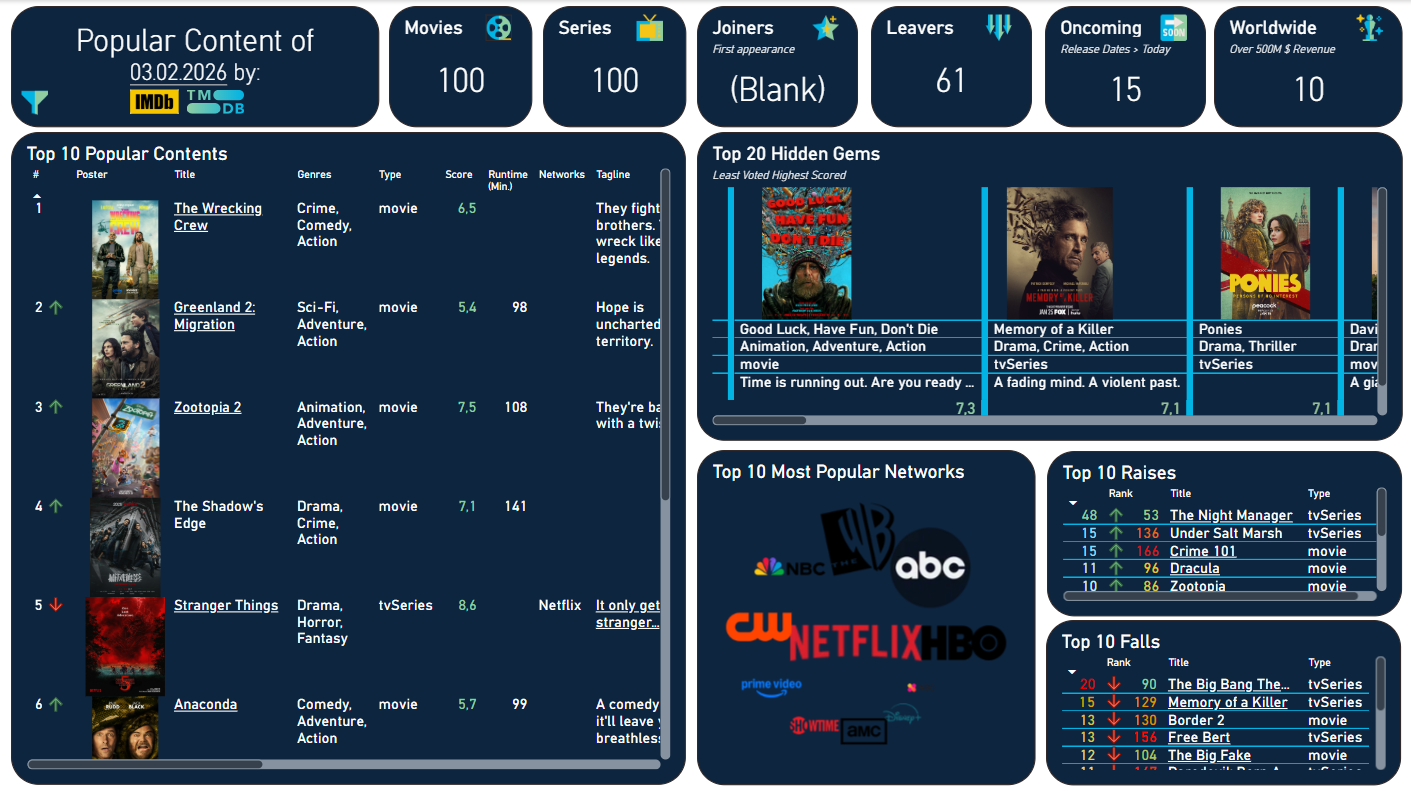

Layout of this report page (visuals, bound fields, positions):
{"tool":"powerbi","page":{"name":"Landing Page","canvas":[1280,720],"ordinal":0},"visuals":[{"type":"textbox","title":"Title","box":[10,5,305,130],"z":0,"group":"g6"},{"type":"card","title":"Binge Worthy","fields":{"Values":["dim_content.M_BingeWorthy"]},"box":[640,5,150,130],"z":0,"group":"g4"},{"type":"card","title":"Quick Watch","fields":{"Values":["dim_content.M_QuickWatch"]},"box":[800,5,152.6,127.7],"z":0,"group":"g3"},{"type":"card","title":"Oncoming","fields":{"Values":["dim_content.M_OnComing"]},"box":[960,5,150,130],"z":0,"group":"g2"},{"type":"card","title":"Global Reach","fields":{"Values":["dim_content.M_GlobalReach"]},"box":[1120,5,150,130],"z":0,"group":"g1"},{"type":"cardVisual","title":"Trending / Total","fields":{"Data":["dim_content.M_Content_Trending","dim_content.M_TotalContent"],"Rows":["dim_content.TypeDisplay"]},"box":[325,8,305,128],"z":0,"group":"g5"},{"type":"tableEx","title":"Top 10 Falls","fields":{"Values":["Key Measures.M_Display_RankChangeToday","Key Measures.M_Rank Today","dim_content.primary_title","dim_content.TypeDisplay","Key Measures.M_RankChangeToday"]},"box":[960,567,310,147],"z":0},{"type":"image","title":"iconBingeWatch","box":[750.6,5,32.8,32.6],"z":1000,"group":"g4"},{"type":"image","title":"iconQuickWatch","box":[909.6,5,33.3,37.1],"z":1000,"group":"g3"},{"type":"image","title":"iconOncomingNonSel","box":[1067.3,8.5,33.3,32],"z":1000,"group":"g2"},{"type":"image","title":"iconGlobalReachNonSel","box":[1233.5,8.5,33.3,32],"z":1000,"group":"g1"},{"type":"image","title":"iconTv","box":[584.2,77,30.5,32],"z":1000,"group":"g5"},{"type":"tableEx","title":"Top 10 Raises","fields":{"Values":["Key Measures.M_RankChangeToday","Key Measures.M_Display_RankChangeToday","Key Measures.M_Rank Today","dim_content.primary_title","dim_content.TypeDisplay"]},"box":[960,415,310,147],"z":1000},{"type":"image","title":"iconMovie","box":[584.2,53,30.5,32],"z":2000,"group":"g5"},{"type":"image","title":"iconFilterNonSel","box":[14.6,80,31.1,34],"z":2000,"group":"g6"},{"type":"ImageGrid_FC5183B9_926C_45E0_B5F7_0CE9EAF1DA9B","title":"Top 10 Most Popular Networks","fields":{"ImageURLHQ":["dim_network.Poster"],"Value":["Sum(fact_popularity.Popularity)"]},"box":[640,415,310,300],"z":2000},{"type":"image","title":"logoTMDB","box":[149.3,80,60.1,32],"z":3000,"group":"g6"},{"type":"pivotTable","title":"Top 20 Hidden Gems","fields":{"Rows":["dim_content.Title"],"Values":["Min(dim_content.Poster)","Min(dim_content.TypeDisplay)","Min(dim_content.Genres)","Sum(dim_content.Score)","Min(dim_content.Runtime_HM_col)","Min(dim_content.Tagline)"]},"box":[640,140,630,270],"z":3000},{"type":"image","title":"logoIMDB","box":[98.3,80,60.1,32],"z":4000,"group":"g6"},{"type":"tableEx","title":"Top 10 Most Popular Contents","fields":{"Values":["fact_popularity.Rank Today","Key Measures.M_Display_RankChangeToday","dim_content.content_poster","dim_content.primary_title","dim_content.GenreList","dim_content.TypeDisplay","dim_content.Score","dim_content.NetworksDisplay","dim_content.TrailerDisplay","dim_content.Release Date.Variation.Date Hierarchy.Year","dim_content.Tagline","dim_content.Language"]},"box":[10,140,620,575],"z":4000},{"type":"group","id":"g1","title":"GlobalReach","box":[1120,5,150,130],"z":5000},{"type":"group","id":"g2","title":"Oncoming","box":[960,5,150,130],"z":6000},{"type":"group","id":"g3","title":"Quick Watch","box":[800,5,150,130],"z":7000},{"type":"group","id":"g4","title":"Binge Watch","box":[640,5,150,130],"z":8000},{"type":"group","id":"g5","title":"Trending","box":[325,8,305,128],"z":9000},{"type":"group","id":"g6","title":"Title","box":[10,5,305,130],"z":10000}]}

Visuals, with their boxes in screenshot pixels (x1, y1, x2, y2), scaled from the page's 1280x720 canvas onto the 1411x791 screenshot:
"Title" textbox: <region>11, 5, 347, 148</region>
"Binge Worthy" card: <region>706, 5, 871, 148</region>
"Quick Watch" card: <region>882, 5, 1050, 146</region>
"Oncoming" card: <region>1058, 5, 1224, 148</region>
"Global Reach" card: <region>1235, 5, 1400, 148</region>
"Trending / Total" cardVisual: <region>358, 9, 694, 149</region>
"Top 10 Falls" tableEx: <region>1058, 623, 1400, 784</region>
"iconBingeWatch" image: <region>827, 5, 864, 41</region>
"iconQuickWatch" image: <region>1003, 5, 1039, 46</region>
"iconOncomingNonSel" image: <region>1177, 9, 1213, 44</region>
"iconGlobalReachNonSel" image: <region>1360, 9, 1396, 44</region>
"iconTv" image: <region>644, 85, 678, 120</region>
"Top 10 Raises" tableEx: <region>1058, 456, 1400, 617</region>
"iconMovie" image: <region>644, 58, 678, 93</region>
"iconFilterNonSel" image: <region>16, 88, 50, 125</region>
"Top 10 Most Popular Networks" ImageGrid_FC5183B9_926C_45E0_B5F7_0CE9EAF1DA9B: <region>706, 456, 1047, 786</region>
"logoTMDB" image: <region>165, 88, 231, 123</region>
"Top 20 Hidden Gems" pivotTable: <region>706, 154, 1400, 450</region>
"logoIMDB" image: <region>108, 88, 175, 123</region>
"Top 10 Most Popular Contents" tableEx: <region>11, 154, 694, 786</region>
"GlobalReach" group: <region>1235, 5, 1400, 148</region>
"Oncoming" group: <region>1058, 5, 1224, 148</region>
"Quick Watch" group: <region>882, 5, 1047, 148</region>
"Binge Watch" group: <region>706, 5, 871, 148</region>
"Trending" group: <region>358, 9, 694, 149</region>
"Title" group: <region>11, 5, 347, 148</region>
